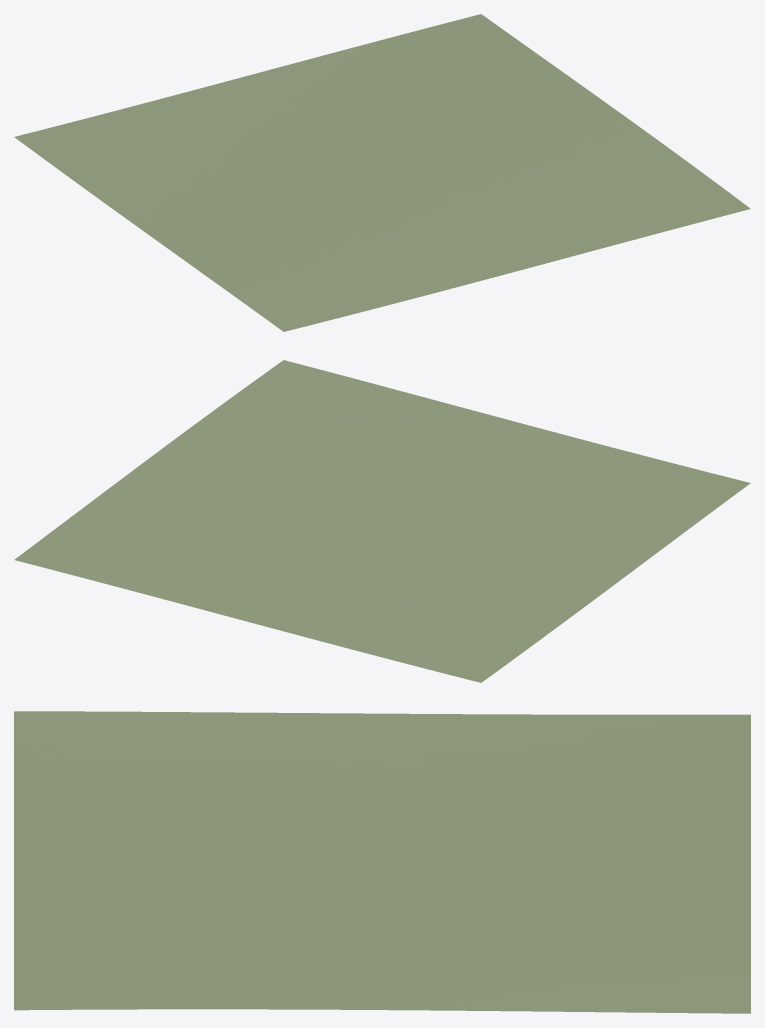
The model's file is expanse-6-0.glb.
3 renders of one model, top to bottom at view 1: azimuth 30°, elevation 25°; view 2: azimuth 150°, elevation 25°; view 3: azimuth 270°, elevation 25°, orthographic. The views are drawn at different scales.
Parts seen in each view (by area): view 1: expanse-6-0; view 2: expanse-6-0; view 3: expanse-6-0.
Boxes of the visible parts, bbox=[...] form: expanse-6-0: bbox=[14, 14, 750, 331]; expanse-6-0: bbox=[14, 360, 750, 682]; expanse-6-0: bbox=[14, 711, 750, 1013].
Bounding box in the file's own units: 256 × 6.45 × 256.
